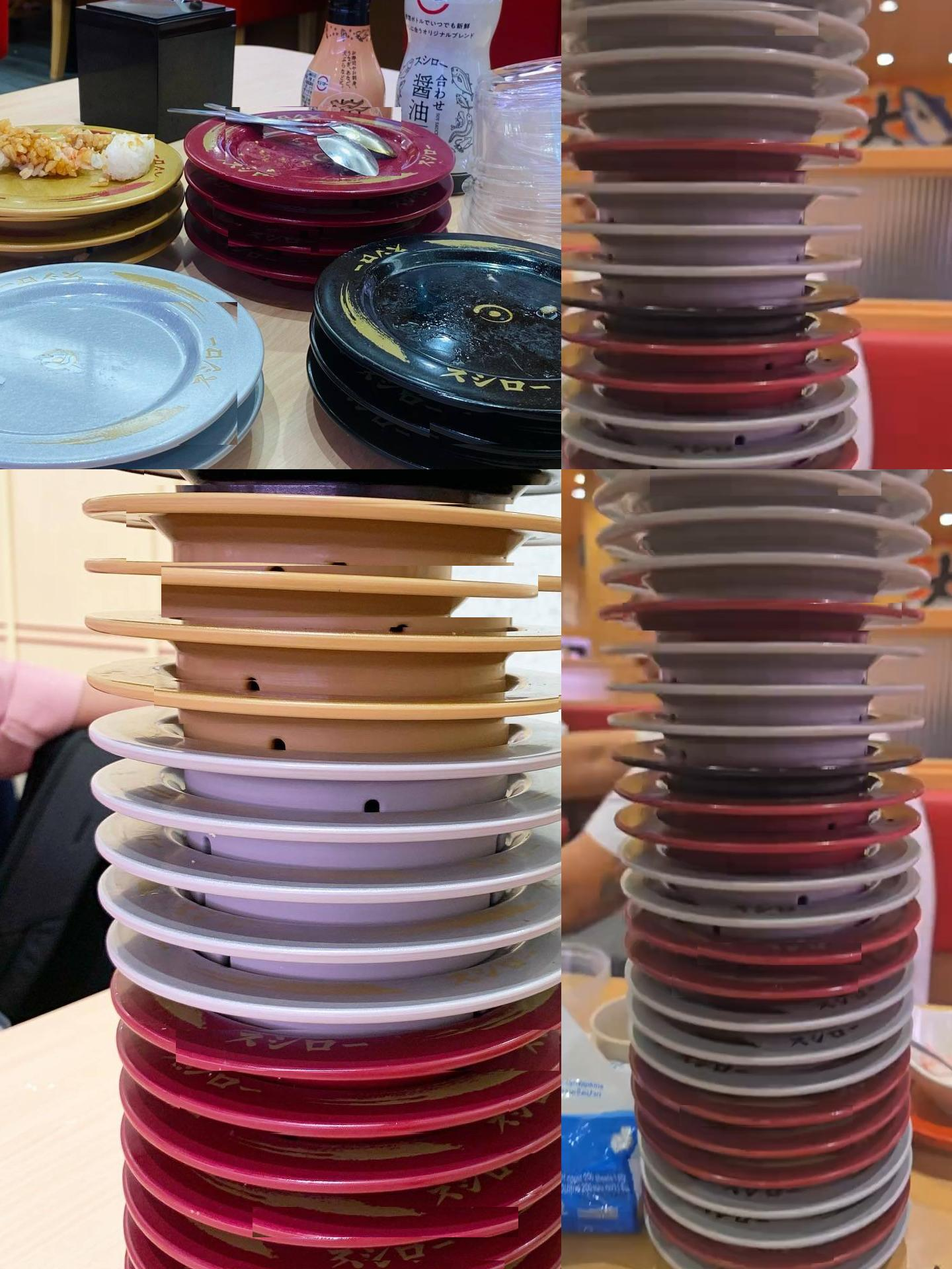Janback: (359, 250, 561, 397), (112, 469, 561, 488), (409, 409, 561, 447), (574, 306, 842, 325), (637, 766, 904, 785)
Jangold: (112, 502, 561, 565), (128, 561, 561, 623), (106, 627, 561, 683), (130, 677, 561, 726), (0, 132, 163, 221), (0, 228, 145, 247)
Janred: (167, 1028, 561, 1073), (212, 102, 415, 182), (175, 1090, 514, 1134), (211, 1153, 547, 1196), (228, 1204, 544, 1241), (577, 362, 825, 400), (640, 822, 888, 860), (616, 602, 909, 632), (632, 793, 919, 823), (570, 333, 856, 363), (561, 142, 846, 172), (206, 197, 441, 224), (665, 970, 866, 999), (682, 941, 877, 967), (686, 1134, 859, 1159), (674, 1104, 859, 1127), (229, 246, 312, 286), (216, 1258, 515, 1269), (220, 228, 328, 256), (704, 1164, 856, 1182), (708, 1253, 843, 1264), (413, 141, 413, 203)
Janwhite: (0, 298, 246, 448), (143, 797, 540, 853), (133, 748, 561, 796), (154, 959, 538, 1006), (130, 905, 561, 946), (133, 858, 555, 894), (608, 682, 935, 713), (561, 221, 872, 253), (602, 648, 922, 676), (561, 187, 859, 216), (566, 8, 840, 39), (609, 722, 914, 749), (629, 469, 902, 499), (608, 557, 924, 582), (561, 261, 851, 288), (561, 96, 861, 122), (649, 897, 882, 924), (587, 437, 819, 464), (581, 408, 853, 431), (644, 868, 915, 891), (673, 1005, 899, 1030), (622, 512, 919, 530), (665, 1060, 872, 1085), (561, 52, 855, 69), (666, 1034, 891, 1055), (565, 76, 852, 92), (628, 536, 914, 552), (687, 1190, 865, 1213), (689, 1218, 856, 1241), (645, 1249, 684, 1269), (863, 1255, 906, 1268)
